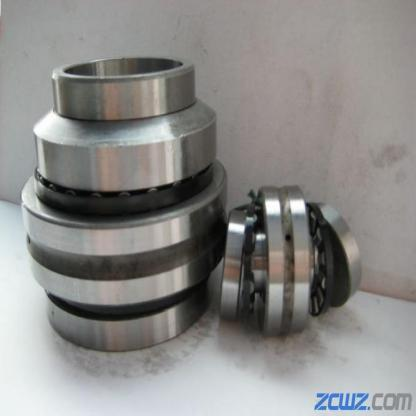FOD: (19, 40, 234, 355)
